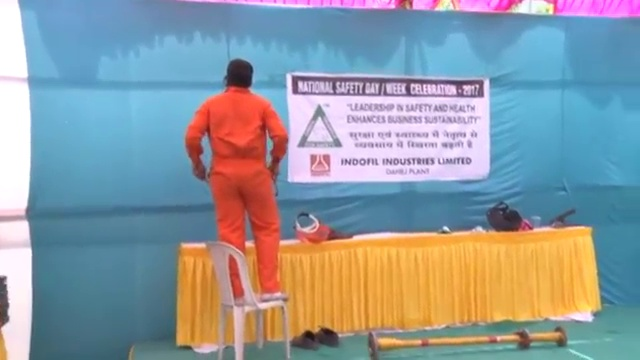helmet_off: (223, 58, 255, 92)
person: (183, 58, 288, 301)
